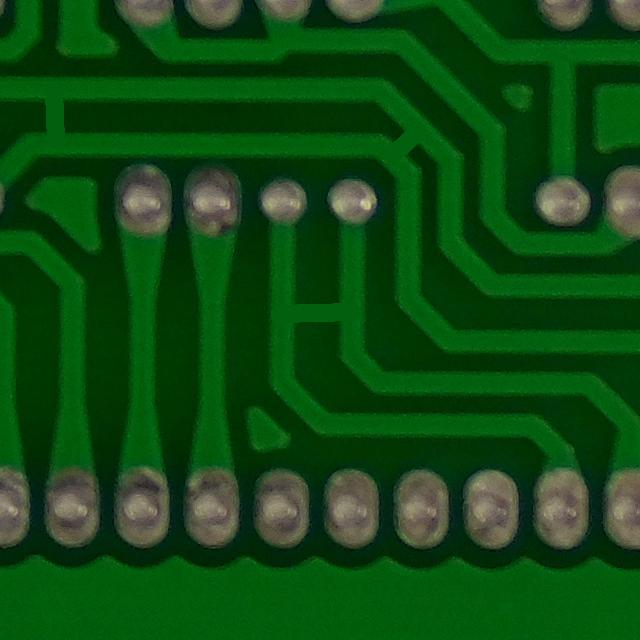short: (261, 276, 380, 365)
